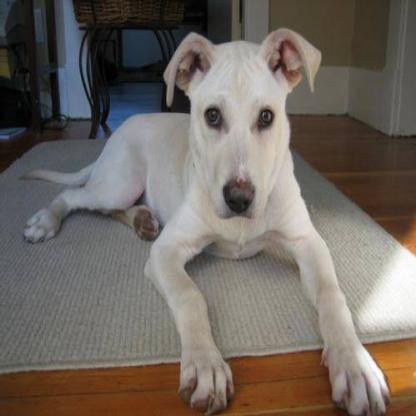dog: (117, 27, 362, 386)
